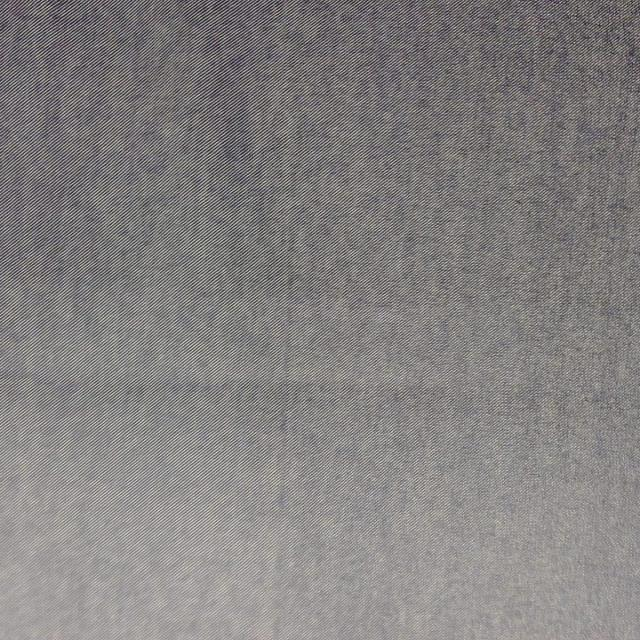Line: (268, 164, 302, 640)
